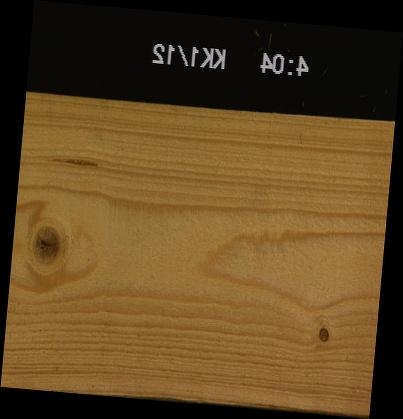dry_knot: (317, 325, 330, 341)
sound_knot: (31, 224, 62, 265)
